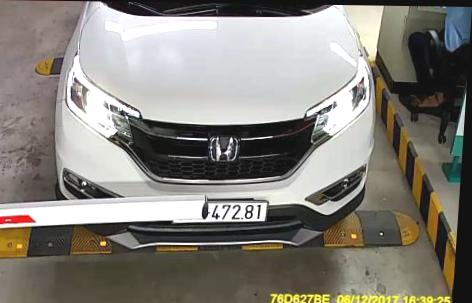License_Plate: (172, 195, 275, 227)
